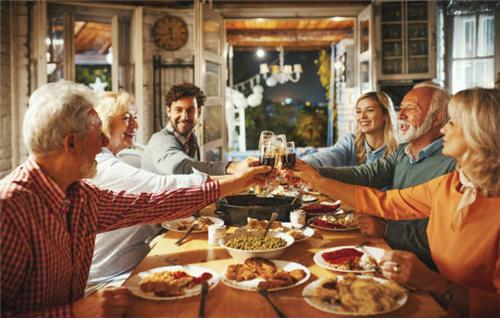alcohol: (281, 141, 297, 184), (261, 145, 276, 189), (274, 134, 286, 167), (260, 130, 273, 149)
